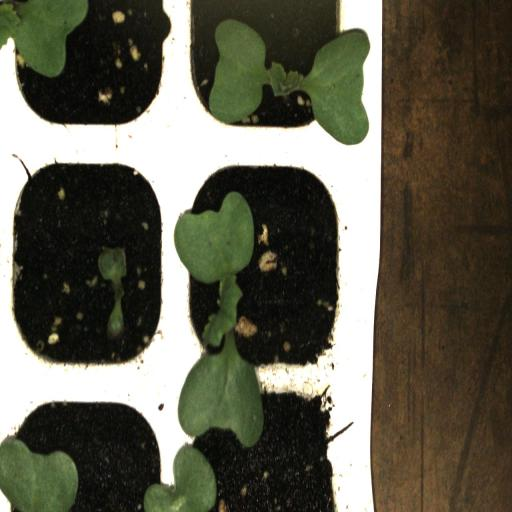Folha: (0, 0, 89, 78), (143, 446, 217, 512)
Germinacao: (0, 141, 177, 385), (176, 138, 354, 379), (172, 0, 368, 143)
